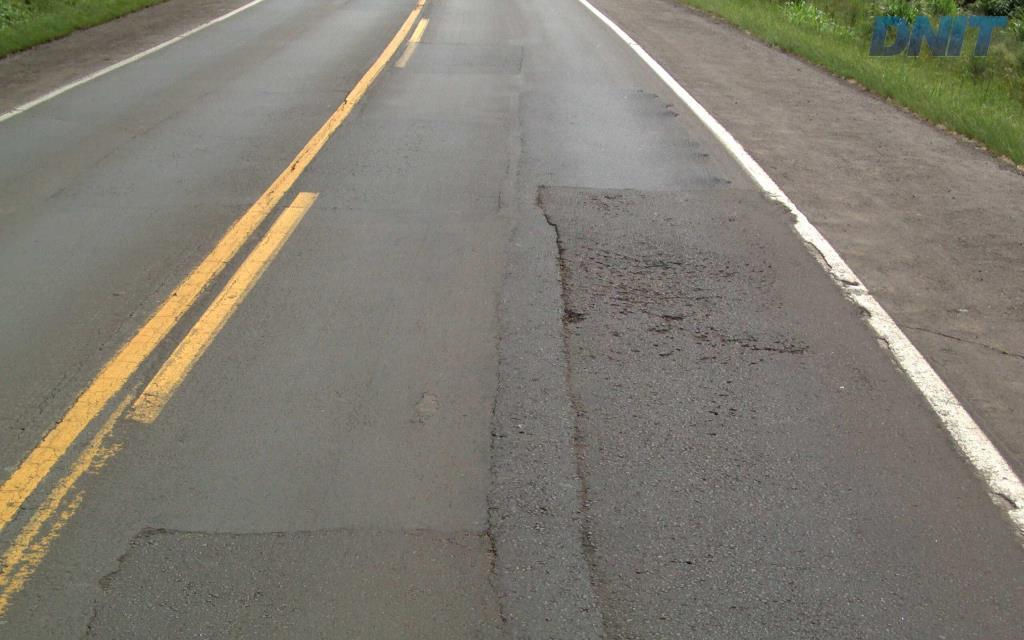crack: (543, 213, 589, 336), (571, 482, 612, 596), (476, 493, 506, 595), (718, 333, 809, 354), (609, 282, 653, 318)
